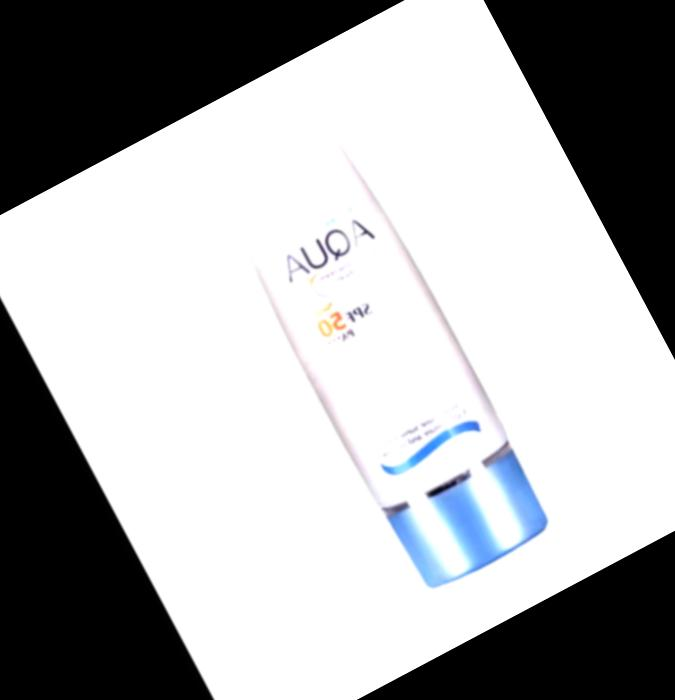cosmetic: (193, 102, 557, 599)
